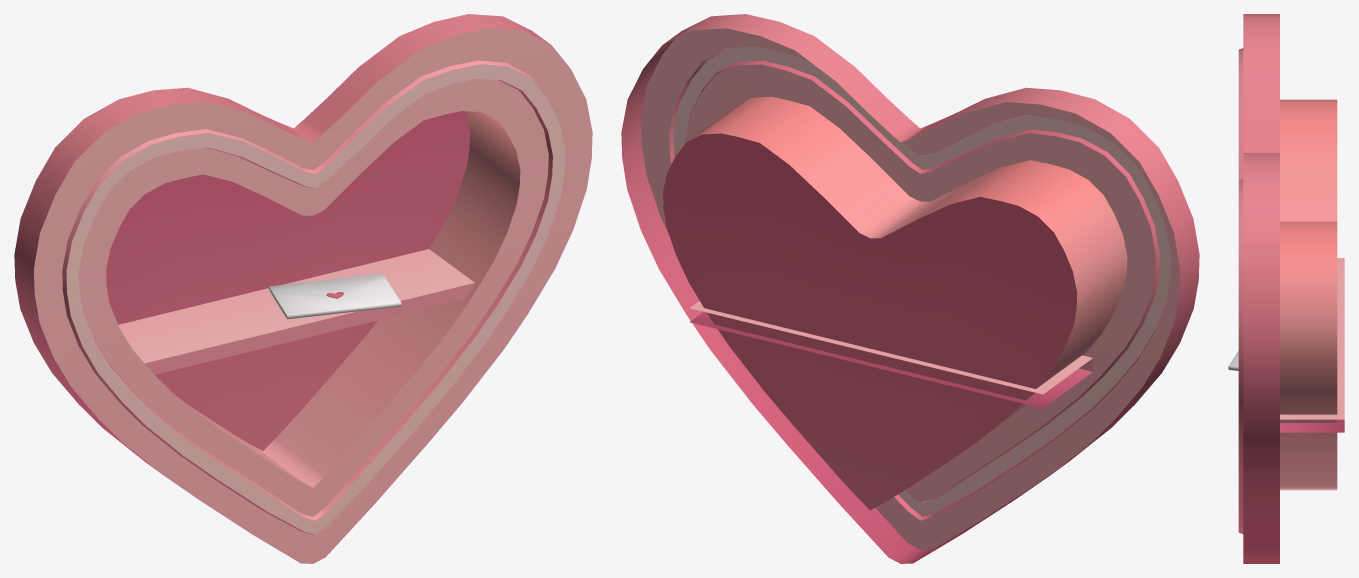
Rendered from Doll_Room_WallFrame.FBX.
The picture shows the model from 3 angles, left to right: view 1: azimuth 30°, elevation 25°; view 2: azimuth 150°, elevation 25°; view 3: azimuth 270°, elevation 25°; orthographic projection. The views are drawn at different scales.
Visible parts, largest first — view 1: Doll_Room_WallFrame; view 2: Doll_Room_WallFrame; view 3: Doll_Room_WallFrame.
Part boxes in pixels (bbox=[...]): Doll_Room_WallFrame: bbox=[14, 14, 592, 563]; Doll_Room_WallFrame: bbox=[621, 14, 1199, 563]; Doll_Room_WallFrame: bbox=[1228, 14, 1344, 563].
Bounding box in the file's own units: 50.35 × 42.5 × 9.67.
